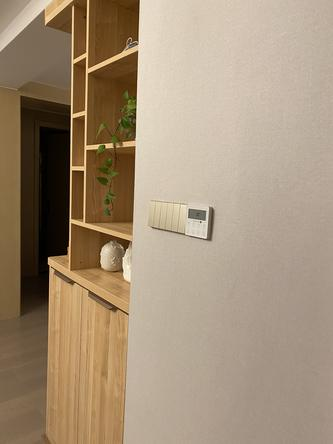switch: (172, 204, 179, 234), (179, 206, 186, 234), (153, 201, 159, 229), (148, 199, 153, 228), (166, 202, 171, 231), (161, 202, 165, 231)
